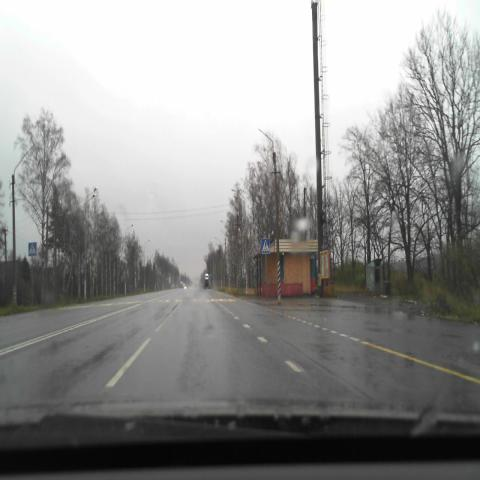5_19_1: (261, 238, 270, 254)
